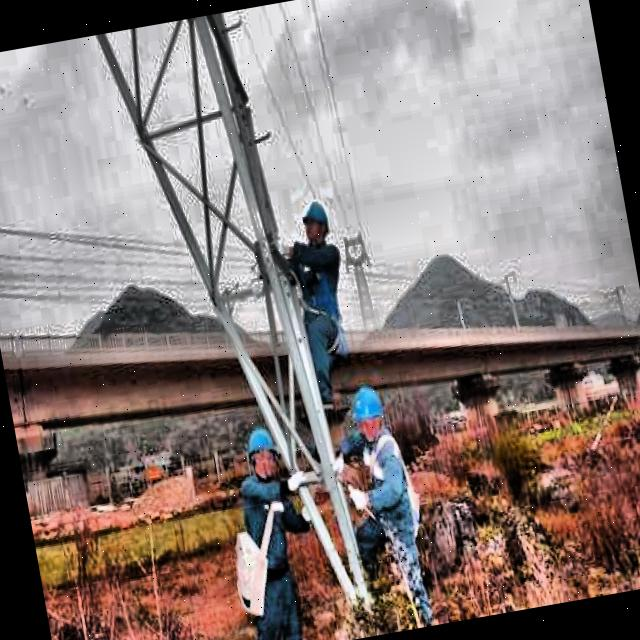helmet: (345, 380, 392, 446), (295, 189, 338, 257), (242, 421, 282, 481)
